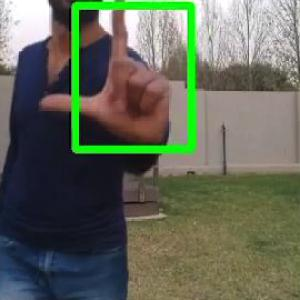land_hand: (41, 0, 178, 144)
